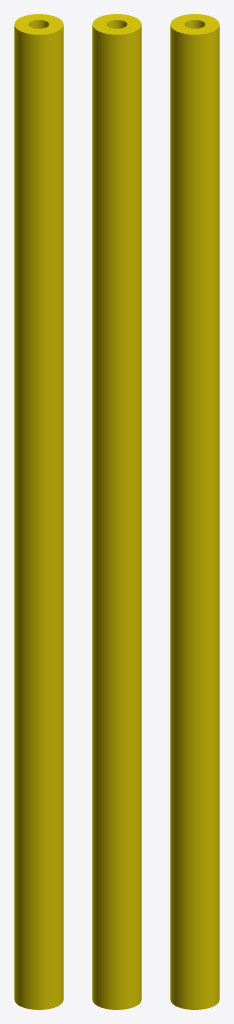
The model's file is noodleyellow.glb.
The picture shows the model from 3 angles, left to right: view 1: azimuth 90°, elevation 25°; view 2: azimuth 150°, elevation 25°; view 3: azimuth 270°, elevation 25°; orthographic projection.
Visible parts, largest first — view 1: yellownoodle; view 2: yellownoodle; view 3: yellownoodle.
Boxes of the visible parts, bbox=[...] form: yellownoodle: bbox=[14, 14, 63, 1009]; yellownoodle: bbox=[92, 14, 141, 1009]; yellownoodle: bbox=[170, 14, 219, 1009].
Bounding box in the file's own units: 0.065 × 1.42 × 0.065.
